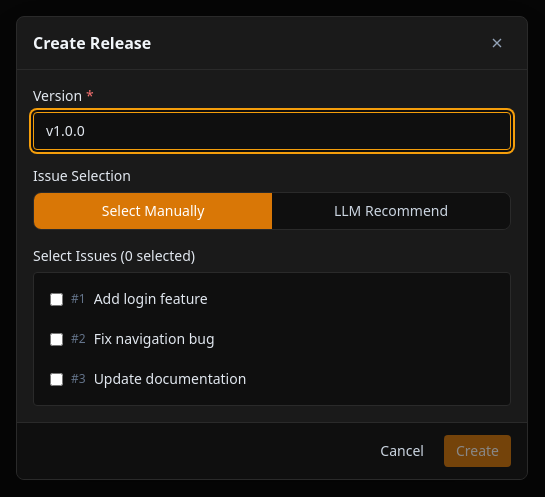
Scenario: CreateReleaseDialog › Selection mode toggle › should switch to LLM mode and show placeholder
Click the button "LLM Recommend".
click(391, 211)  # box [272, 193, 510, 229]
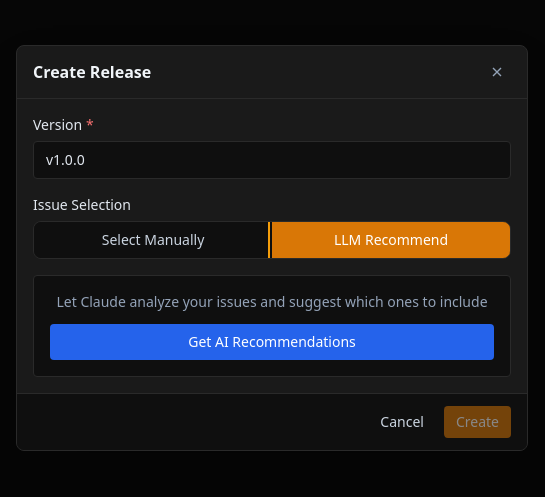
Check: the button "Get AI Recommendations" is shown, box [50, 324, 494, 360]
